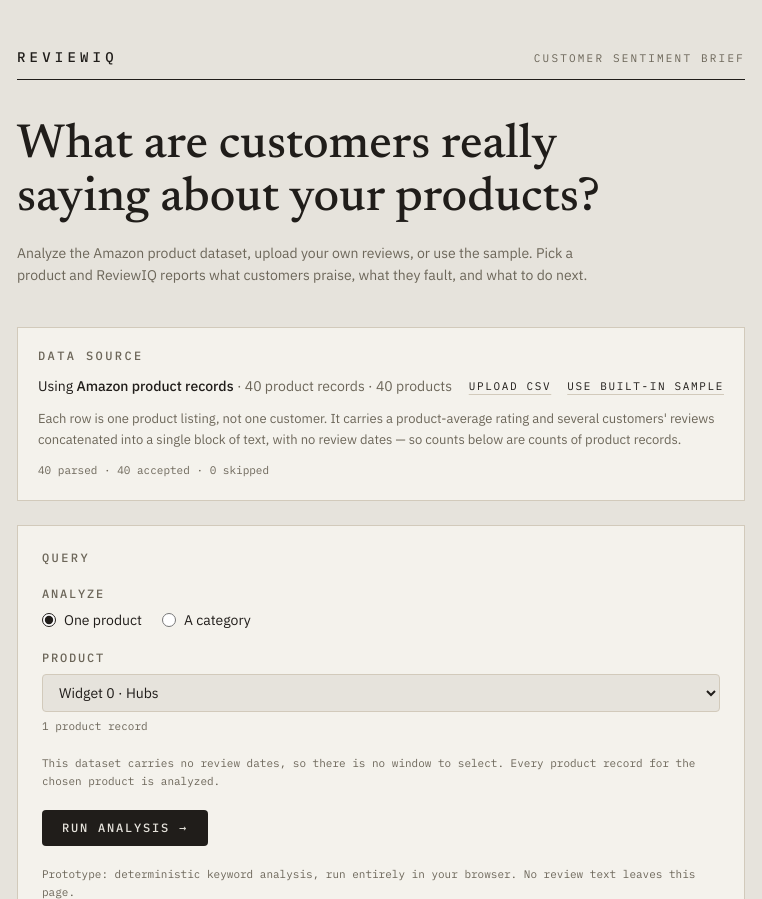
Test case: the heuristic engine keeps its old, simpler flow › sends nothing to either analysis endpoint
What coordinates should you click on to do the following:
click the radio button labelled "A category"
I would click on:
 (169, 620)
Its box is [162,613,176,627].
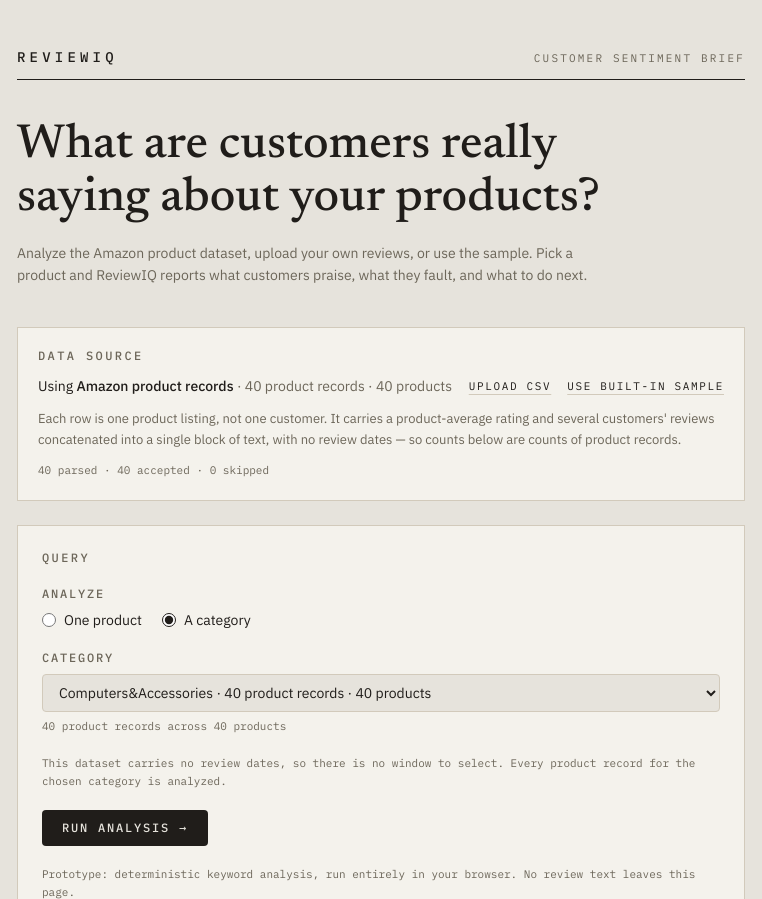
What coordinates should you click on to do the following:
click the submit button
I would click on:
 (125, 828)
Its box is [42,810,208,846].
(page scrolled)
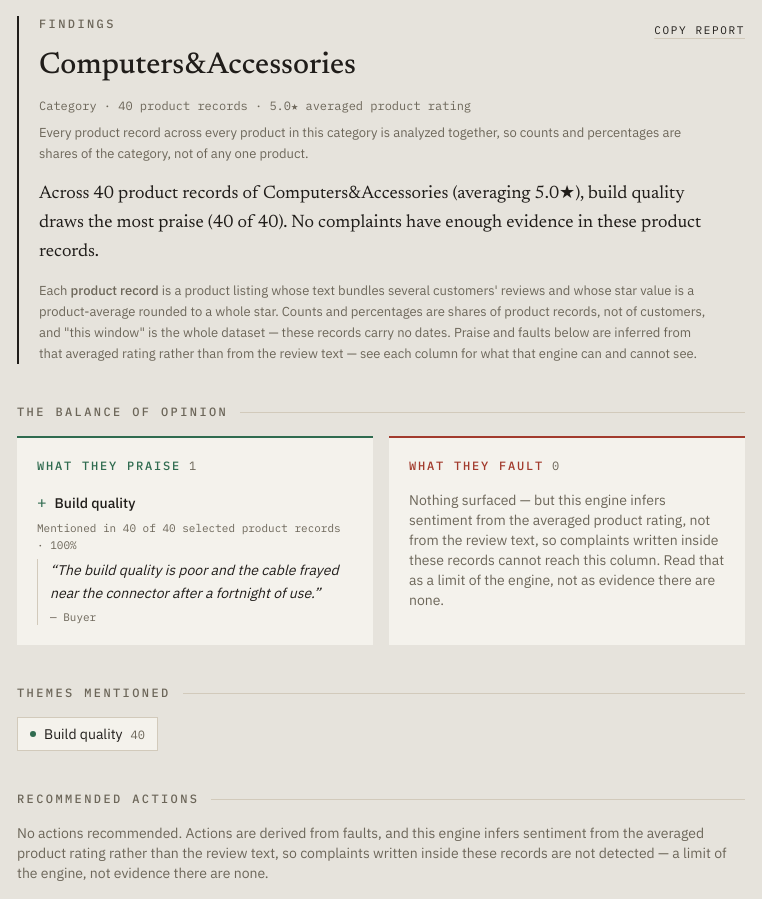
Now the element that starts with "Findings" is shown
